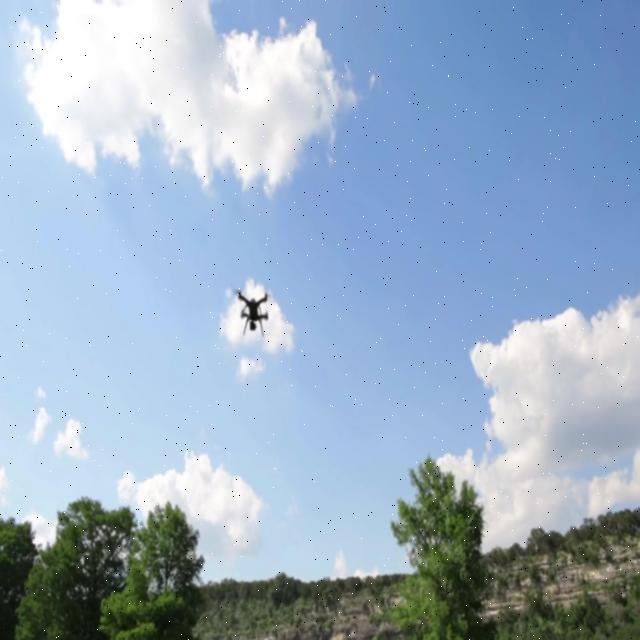UAV: (237, 286, 269, 336)
